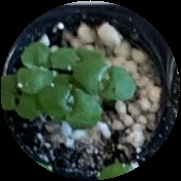Basil: (49, 85, 102, 131), (78, 62, 137, 102), (0, 76, 40, 123), (18, 44, 51, 95), (53, 46, 105, 73)
